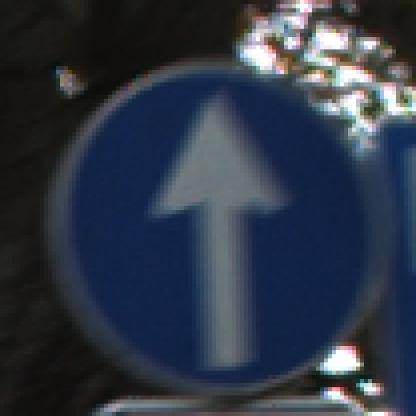AheadOnly: (37, 38, 377, 384)
